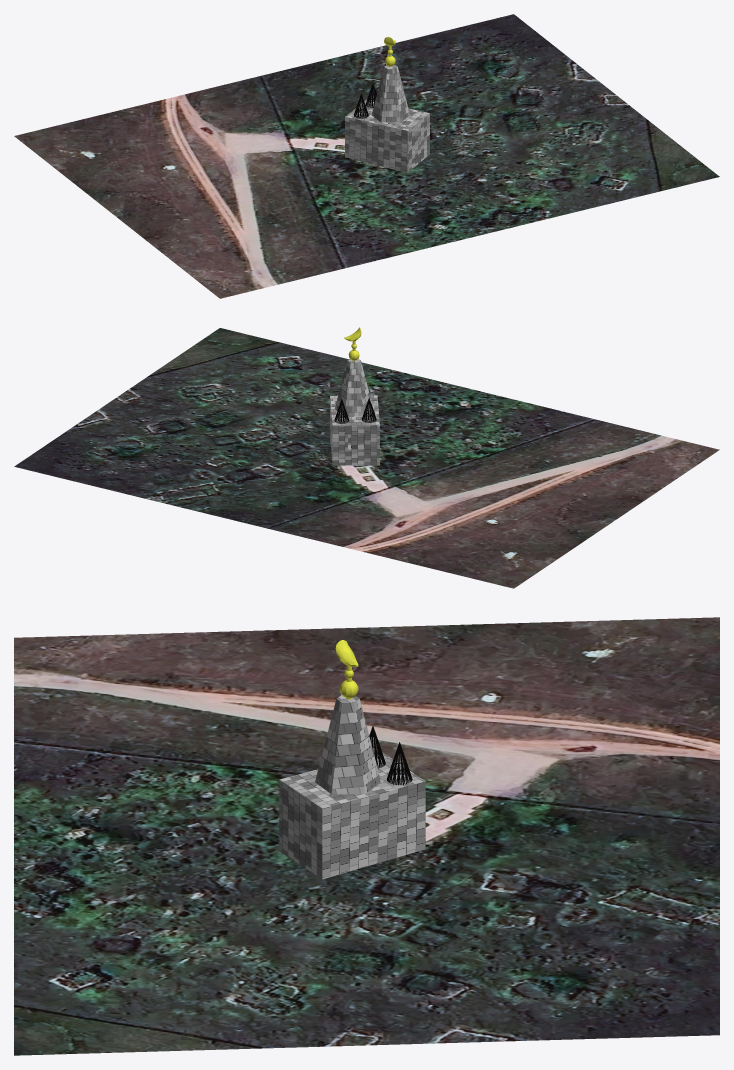
The model's file is mavzoleybyxalziray.glb.
3 renders of one model, top to bottom at view 1: azimuth 30°, elevation 25°; view 2: azimuth 150°, elevation 25°; view 3: azimuth 270°, elevation 25°, orthographic. The views are drawn at different scales.
Visible parts, largest first — view 1: EXPORT_GOOGLE_SAT_WM, Cone; view 2: EXPORT_GOOGLE_SAT_WM, Cone, Cone.002; view 3: EXPORT_GOOGLE_SAT_WM, Cone, Cone.002, Sphere.
Part boxes in pixels (<box>): EXPORT_GOOGLE_SAT_WM: <box>14,14,719,298</box>; Cone: <box>345,64,429,172</box>; EXPORT_GOOGLE_SAT_WM: <box>14,328,719,588</box>; Cone: <box>330,358,379,465</box>; Cone.002: <box>334,398,376,423</box>; EXPORT_GOOGLE_SAT_WM: <box>14,617,719,1055</box>; Cone: <box>279,695,425,879</box>; Cone.002: <box>369,726,412,785</box>; Sphere: <box>335,640,358,698</box>.
Size of the model in its own units: 181 by 44.05 by 129.
Materials: 4 (2 with a texture image).
